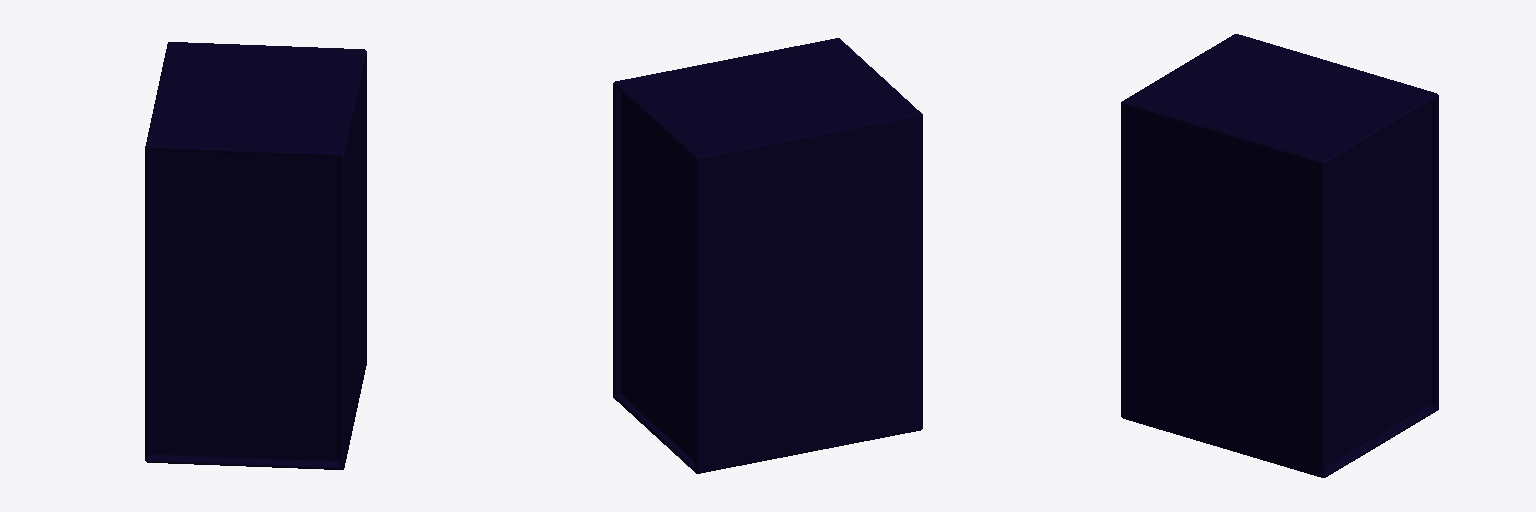
File: ConversationCards.obj
3 renders of one model, left to right at view 1: azimuth 30°, elevation 25°; view 2: azimuth 150°, elevation 25°; view 3: azimuth 270°, elevation 25°, orthographic.
Parts seen in each view (by area): view 1: Part_Studio_1:Part1; view 2: Part_Studio_1:Part1; view 3: Part_Studio_1:Part1.
Part boxes in pixels (x1,y1,x2,y2): Part_Studio_1:Part1: (145,42,366,469); Part_Studio_1:Part1: (613,38,922,473); Part_Studio_1:Part1: (1121,34,1438,477).
Size of the model in its own units: 3.15 by 3.6 by 3.27.